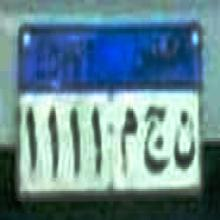1: (44, 104, 62, 180), (88, 102, 105, 181), (24, 102, 40, 174), (67, 106, 82, 180)
jeem: (143, 102, 171, 179)
meem: (120, 101, 139, 180)
noon: (172, 104, 195, 178)
